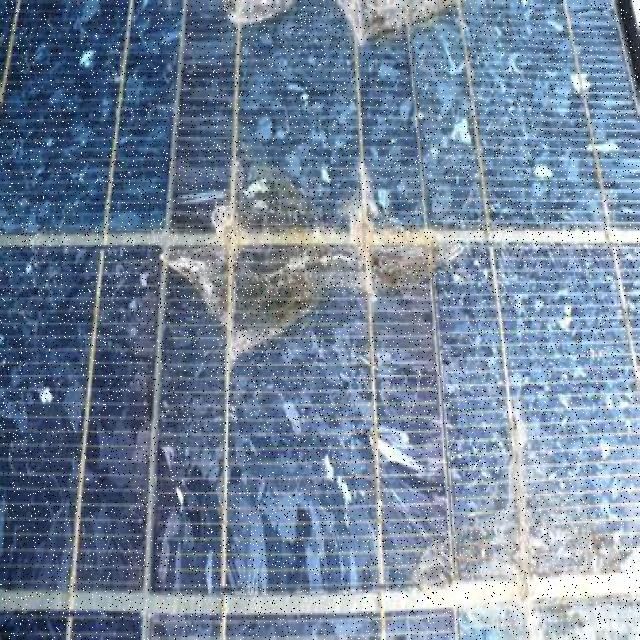electrical damage: (142, 140, 478, 368), (317, 403, 627, 623), (186, 0, 551, 51)
